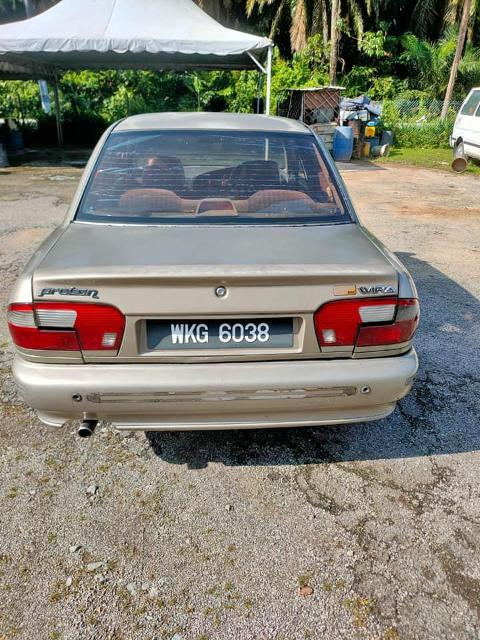License_Plate: (152, 319, 286, 351)
car: (3, 108, 423, 444)
